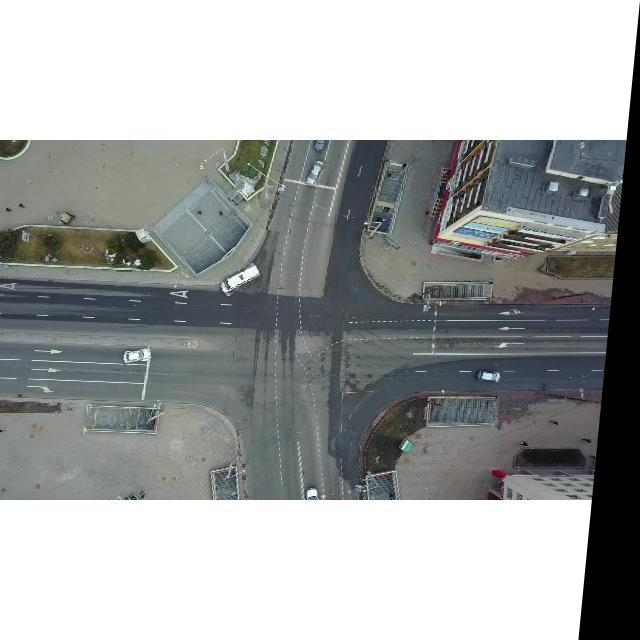vehicle: (225, 260, 268, 300), (309, 158, 329, 186), (128, 348, 160, 364), (483, 369, 510, 383)
